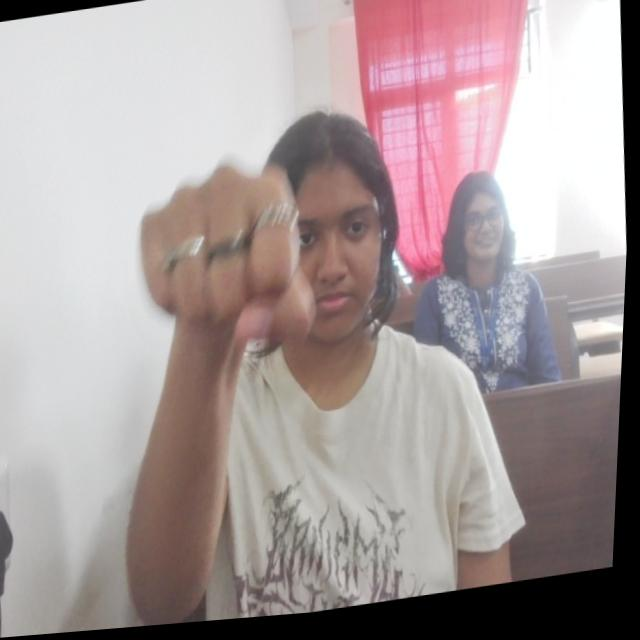yes: (131, 149, 331, 372)
